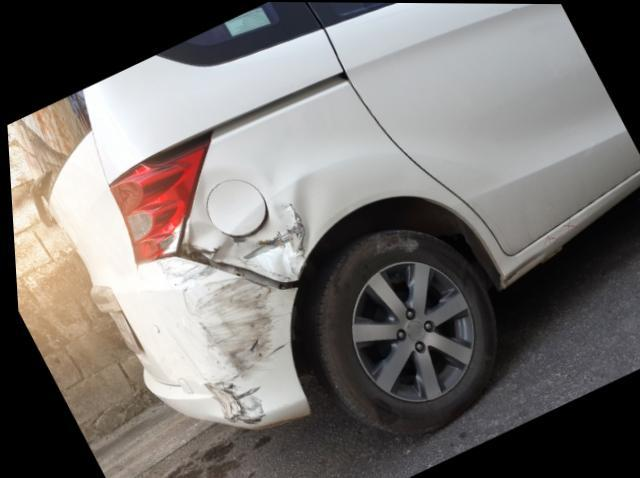dent: (181, 168, 323, 285)
lamp broken: (106, 134, 210, 264)
scratch: (151, 257, 270, 428)
